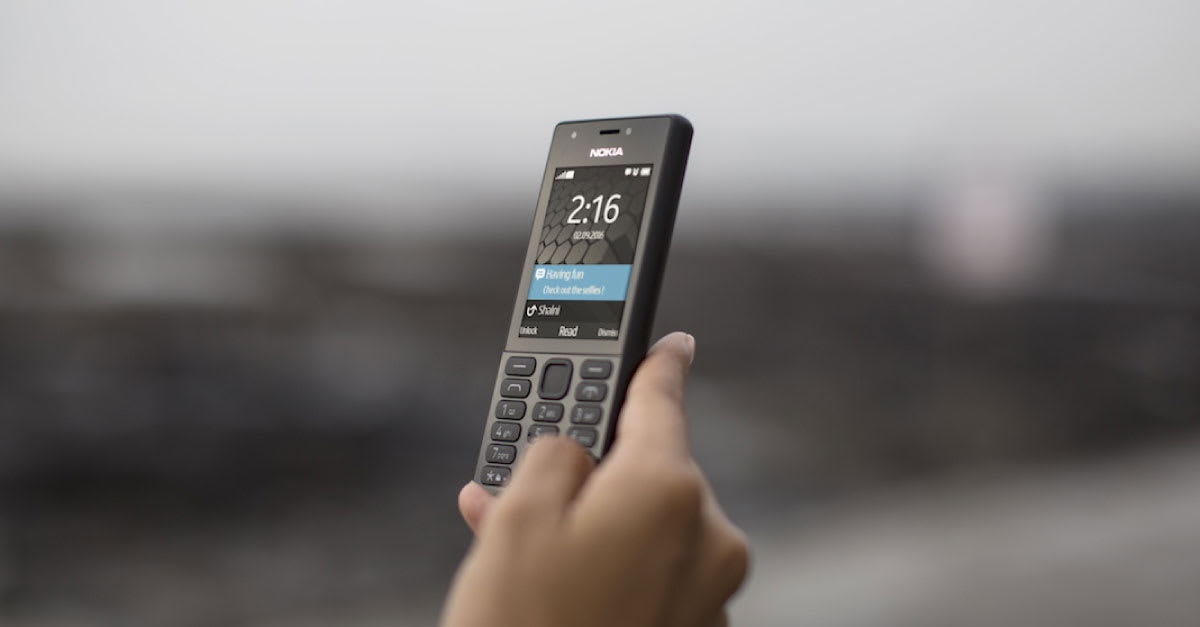Phone: (471, 113, 698, 520)
